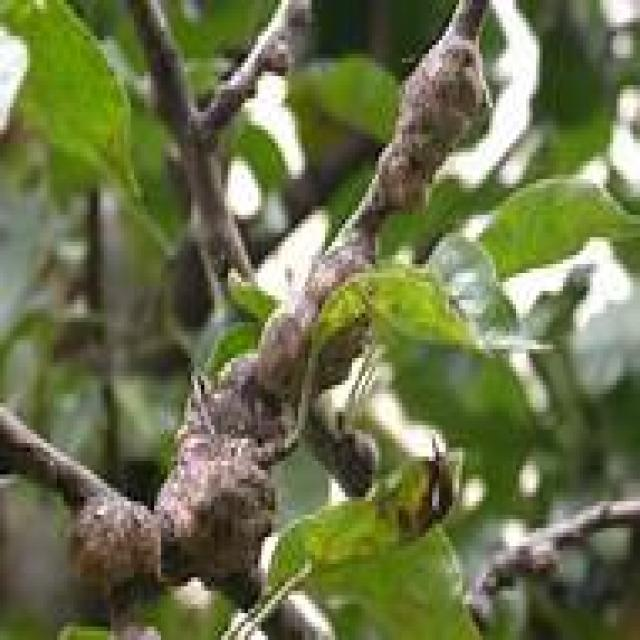Tuberculosis: (154, 308, 305, 594), (375, 32, 486, 215), (70, 479, 158, 622)
